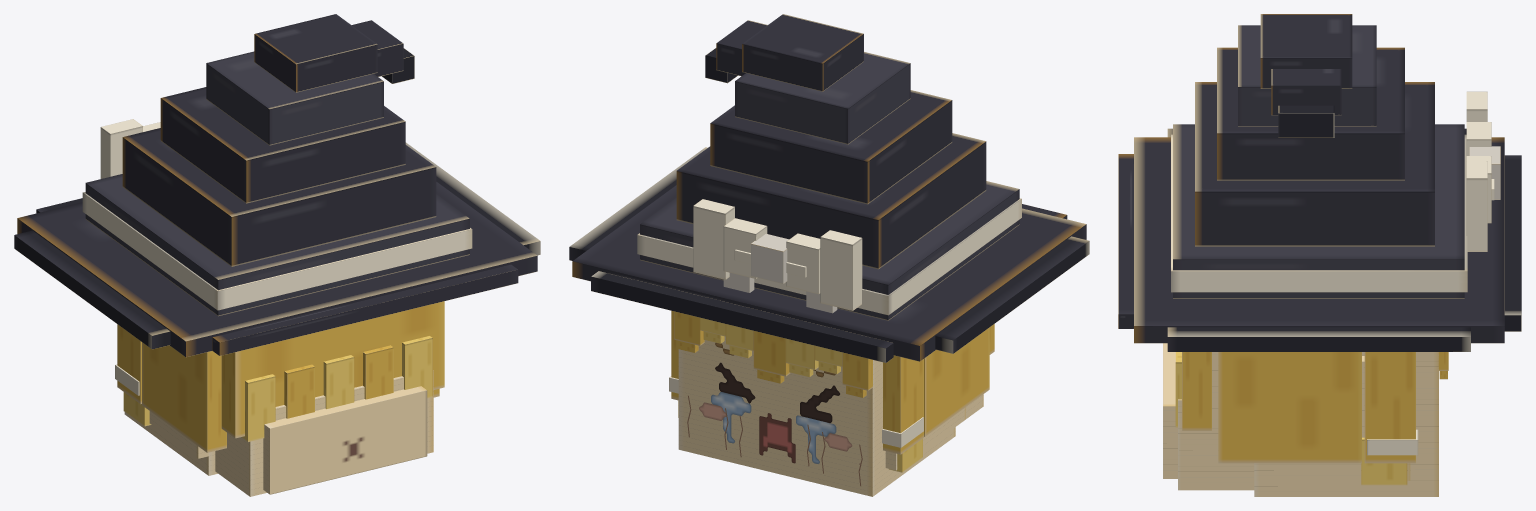
The model's file is desiccation_marisa_3.obj.
3 renders of one model, left to right at view 1: azimuth 30°, elevation 25°; view 2: azimuth 150°, elevation 25°; view 3: azimuth 270°, elevation 25°, orthographic. The views are drawn at different scales.
Parts seen in each view (by area): view 1: desiccation_marisa_3; view 2: desiccation_marisa_3; view 3: desiccation_marisa_3.
Part boxes in pixels (x1,y1,x2,y2): desiccation_marisa_3: (14, 14, 540, 496); desiccation_marisa_3: (569, 14, 1089, 496); desiccation_marisa_3: (1118, 14, 1521, 496).
Size of the model in its own units: 19 by 18.1 by 15.53.
Materials: 1 (1 with a texture image).
